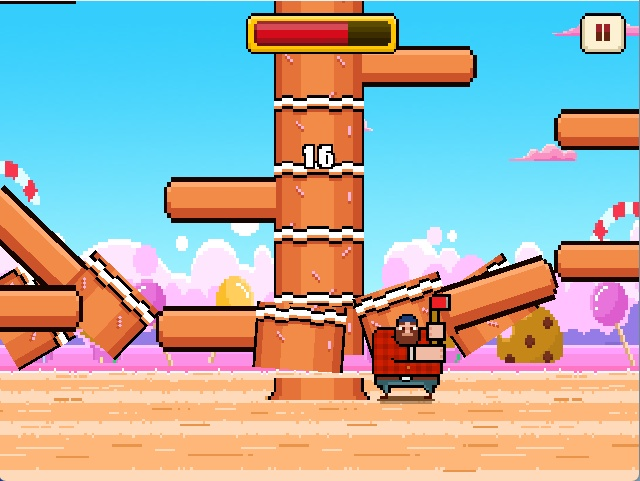left_obs: (158, 164, 278, 228)
right_obs: (360, 38, 483, 92)
timberman: (364, 281, 461, 409)
